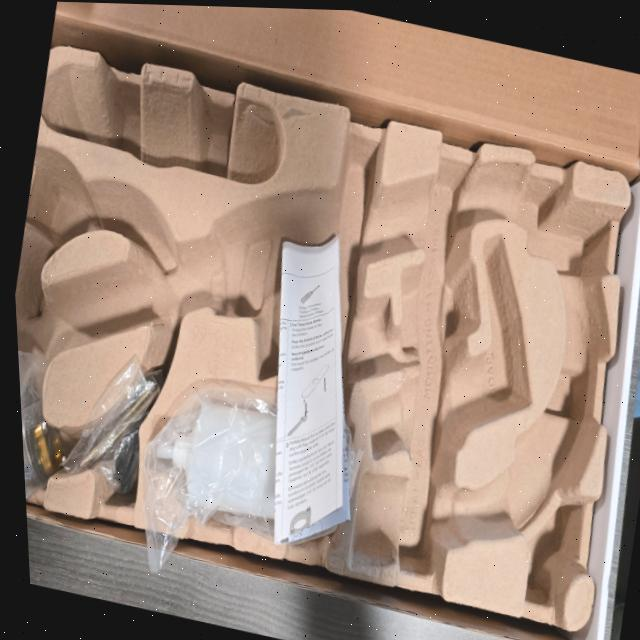1m: (15, 161, 607, 565)
2m: (368, 232, 531, 459)
3o: (151, 397, 353, 541)
4m: (40, 64, 285, 182)
5m: (32, 157, 86, 243)
6: (18, 354, 63, 494)
7: (59, 350, 162, 493)
8: (272, 231, 350, 545)
